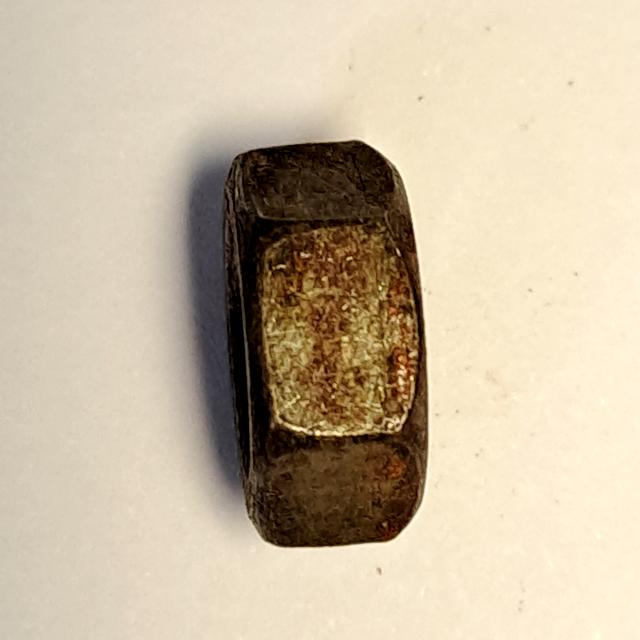Side_Rust: (207, 130, 441, 562)
